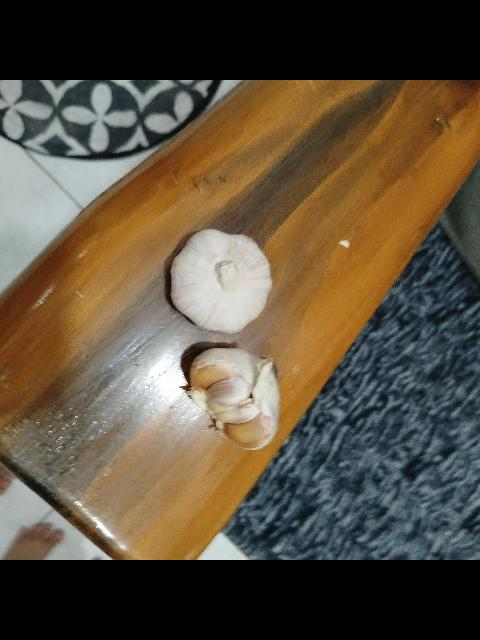garlic: (168, 228, 271, 334), (182, 348, 280, 450)
